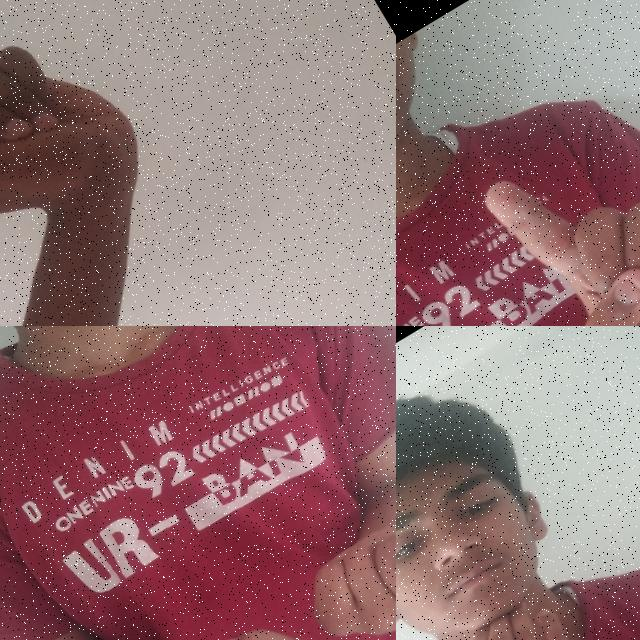Chin Flick: (396, 354, 640, 640)
Corna: (465, 72, 640, 326)
Dulya: (0, 0, 176, 320), (286, 473, 396, 640)
